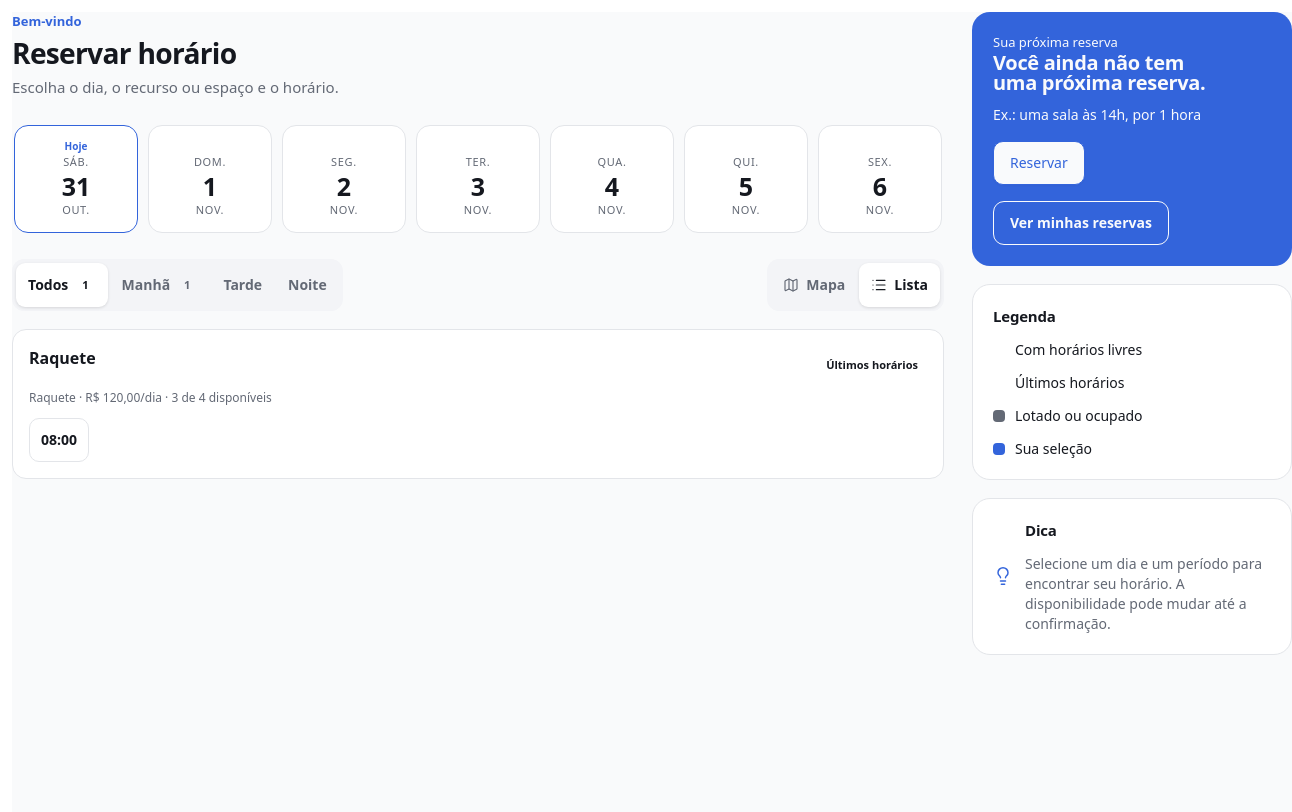
Test case: BookingMapExperience › shows the quoted Day unit for a two-hour window
Click the radio button labelled "Mapa".
click(814, 285)  # box [771, 263, 857, 307]
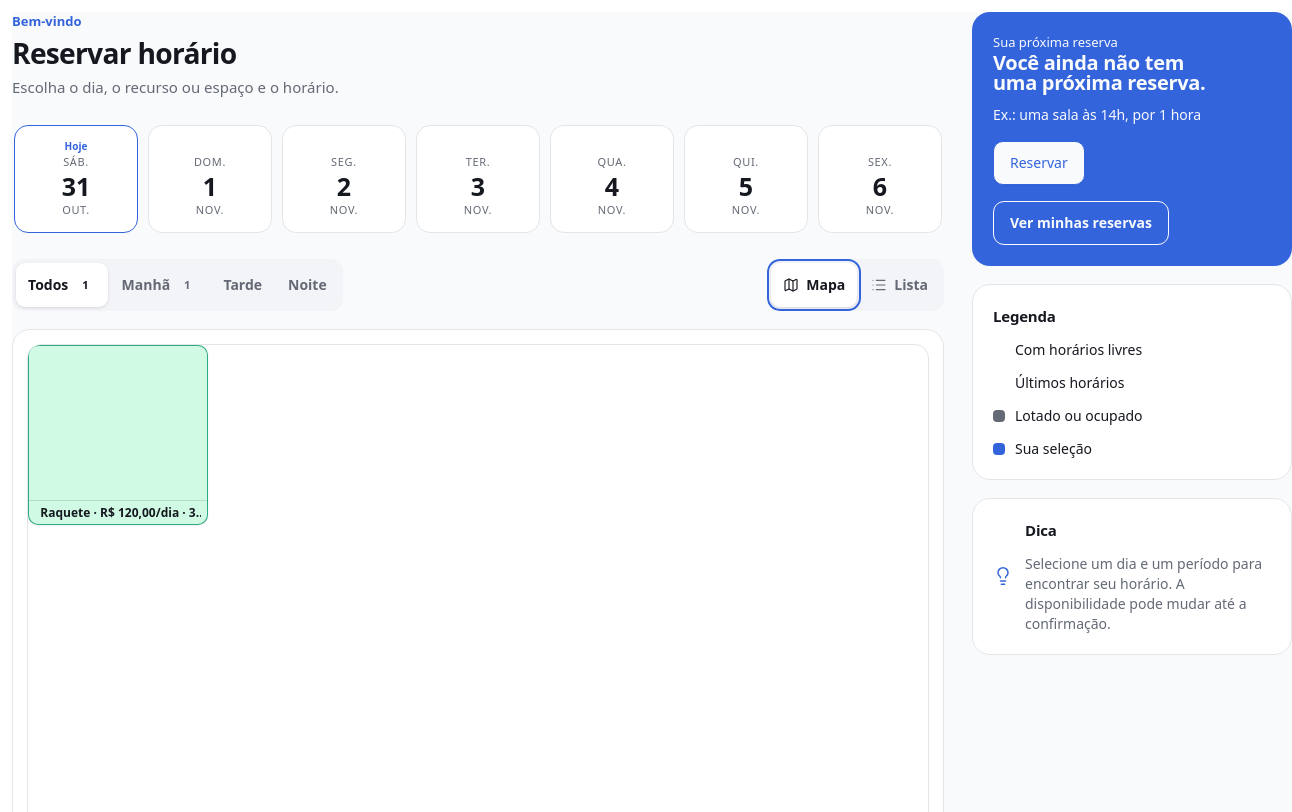
Check: the button "Raquete" shows "R$ 120,00/dia", box [28, 345, 208, 525]
